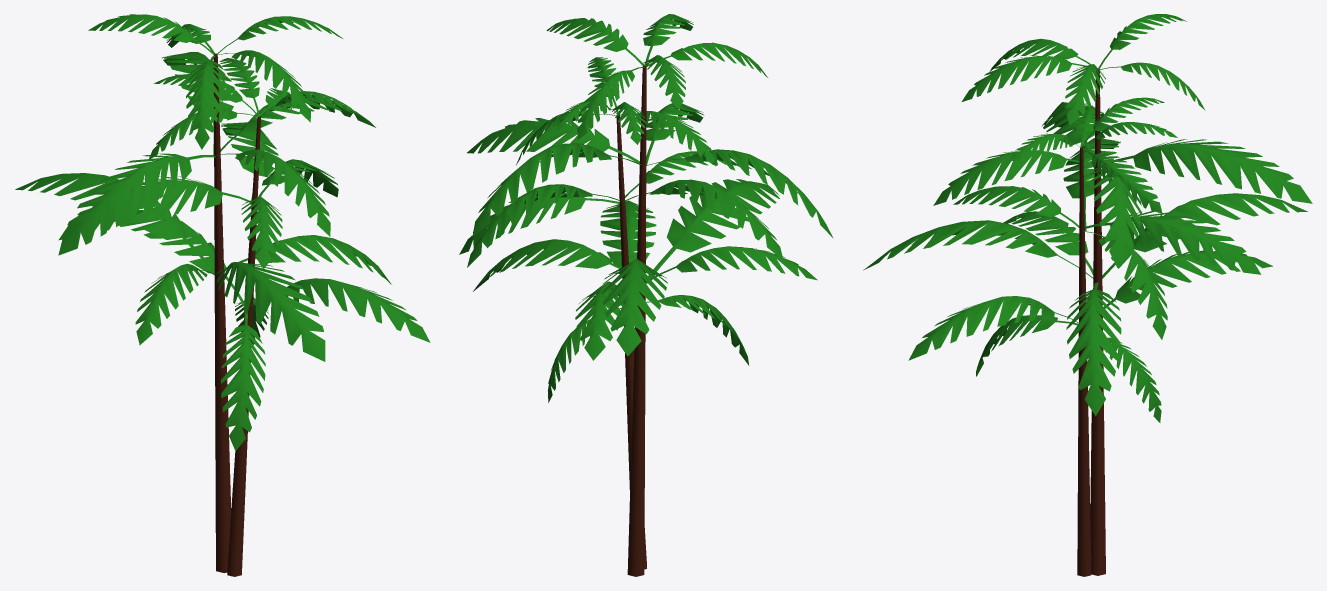
The model's file is Tree_002.FBX.
3 renders of one model, left to right at view 1: azimuth 30°, elevation 25°; view 2: azimuth 150°, elevation 25°; view 3: azimuth 270°, elevation 25°, orthographic. The views are drawn at different scales.
Parts seen in each view (by area): view 1: Tree_002; view 2: Tree_002; view 3: Tree_002.
Boxes of the visible parts, x1,y1,x2,y2 form: Tree_002: (15, 14, 430, 576); Tree_002: (459, 14, 833, 576); Tree_002: (863, 14, 1312, 576).
Bounding box in the file's own units: 323 × 484 × 373.
